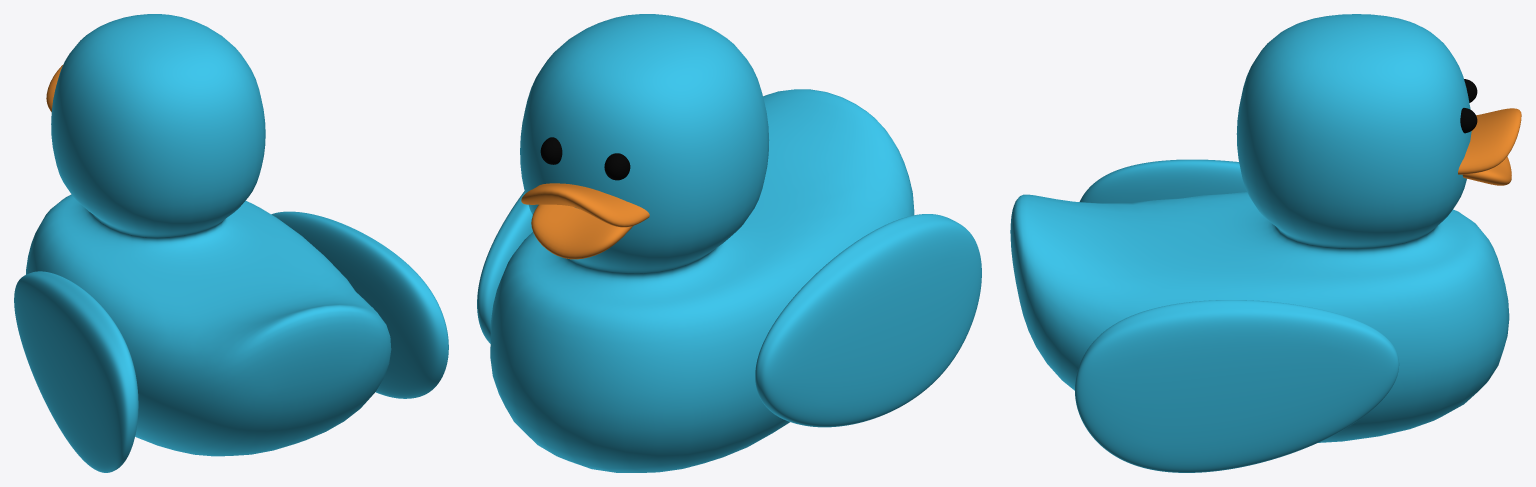
The model's file is duck_enemy_base_model.glb.
3 renders of one model, left to right at view 1: azimuth 30°, elevation 25°; view 2: azimuth 150°, elevation 25°; view 3: azimuth 270°, elevation 25°, orthographic. The views are drawn at different scales.
Visible parts, largest first — view 1: Cube, Cube.001; view 2: Cube, Cube.001, Plane, Sphere; view 3: Cube, Cube.001, Plane, Sphere.
Part boxes in pixels (x1,y1,x2,y2): Cube: [26, 14, 391, 456]; Cube.001: [14, 211, 448, 472]; Cube: [490, 14, 914, 472]; Cube.001: [477, 191, 981, 427]; Plane: [521, 183, 649, 259]; Sphere: [540, 137, 630, 180]; Cube: [1010, 14, 1509, 442]; Cube.001: [1075, 159, 1399, 472]; Plane: [1458, 108, 1521, 185]; Sphere: [1460, 79, 1477, 133].
Bounding box in the file's own units: 3.69 × 3.92 × 4.62.
